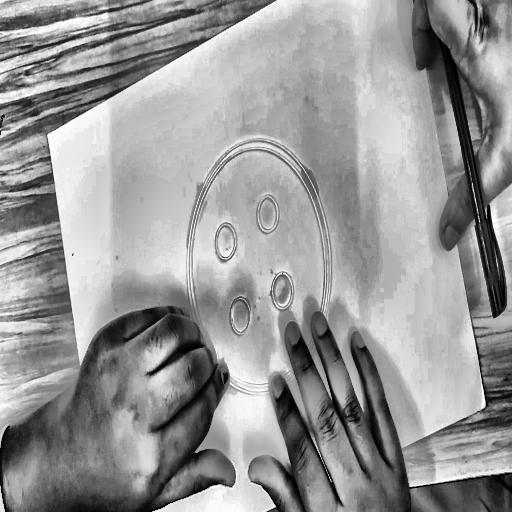bottom_right: (481, 397, 491, 412)
button: (157, 91, 369, 443)
top_left: (44, 129, 51, 142)
